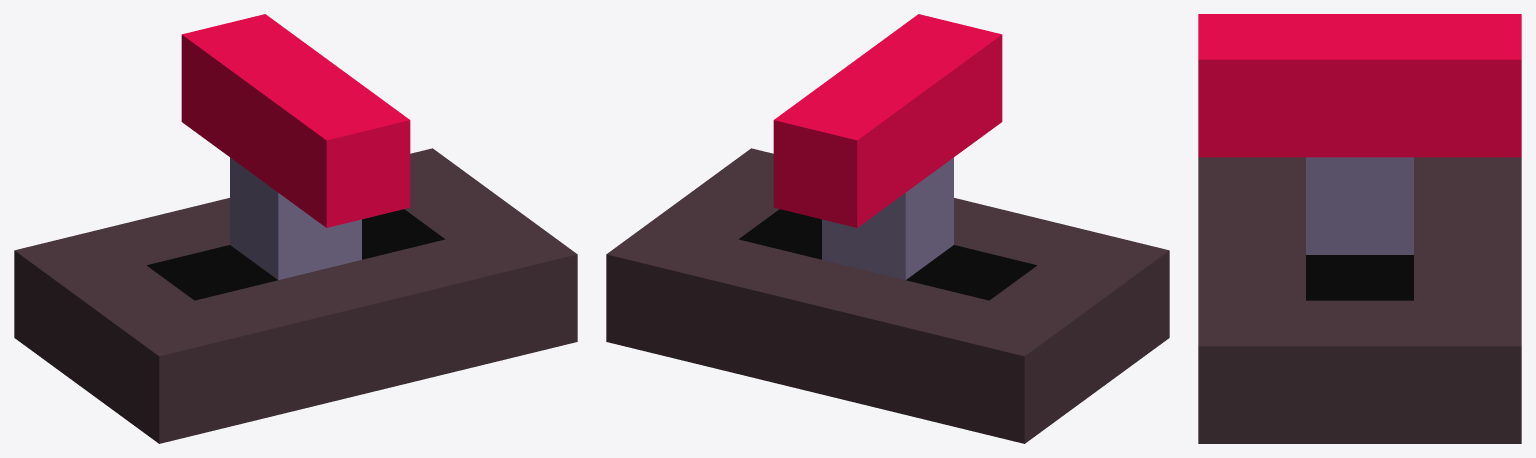
The model's file is lever_b_a_red_off.obj.
3 renders of one model, left to right at view 1: azimuth 30°, elevation 25°; view 2: azimuth 150°, elevation 25°; view 3: azimuth 270°, elevation 25°, orthographic. The views are drawn at different scales.
Size of the model in its own units: 0.5 by 0.3 by 0.3.
Materials: 1 (1 with a texture image).
